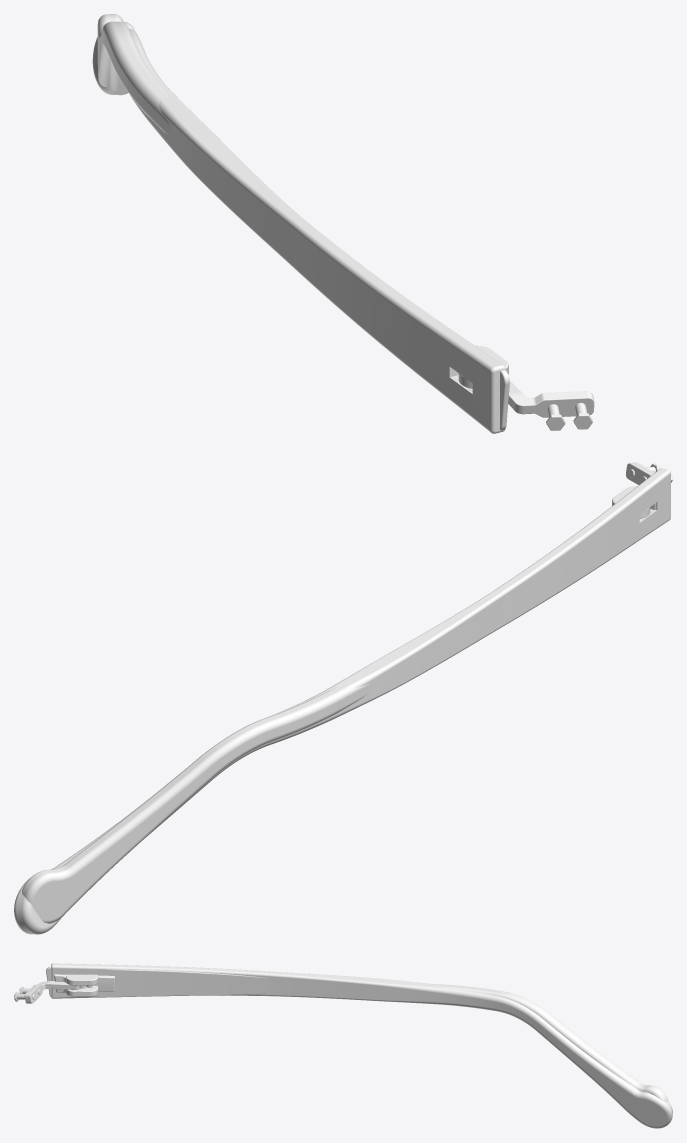
Rendered from asta.gltf.
The picture shows the model from 3 angles, top to bottom: view 1: azimuth 30°, elevation 25°; view 2: azimuth 150°, elevation 25°; view 3: azimuth 270°, elevation 25°; orthographic projection. The views are drawn at different scales.
Visible parts, largest first — view 1: ASTA_PLASTICA_DX, ASTA_METALLO_P_DX, CERNIERA_DX; view 2: ASTA_PLASTICA_DX, ASTA_METALLO_P_DX; view 3: ASTA_PLASTICA_DX, ASTA_METALLO_DX, ASTA_METALLO_P_DX, CERNIERA_DX.
Part boxes in pixels (box(x1,y1,x2,y2)): ASTA_PLASTICA_DX: box(92, 21, 508, 433); ASTA_METALLO_P_DX: box(97, 14, 472, 391); CERNIERA_DX: box(458, 373, 594, 430); ASTA_PLASTICA_DX: box(14, 468, 670, 934); ASTA_METALLO_P_DX: box(22, 503, 655, 923); ASTA_PLASTICA_DX: box(51, 963, 672, 1128); ASTA_METALLO_DX: box(46, 966, 268, 998); ASTA_METALLO_P_DX: box(53, 974, 668, 1102); CERNIERA_DX: box(14, 981, 92, 1003).
Bounding box in the file's own units: 30.82 × 26.36 × 143.
3 materials, 1 textured.
